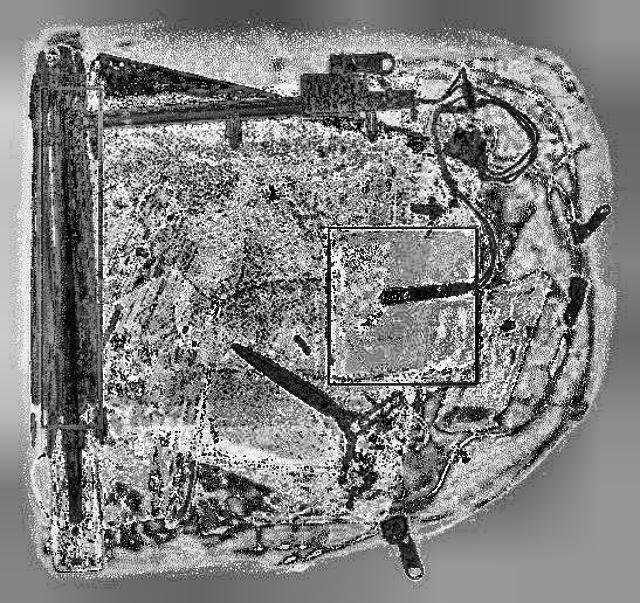Knife: (224, 340, 406, 482)
